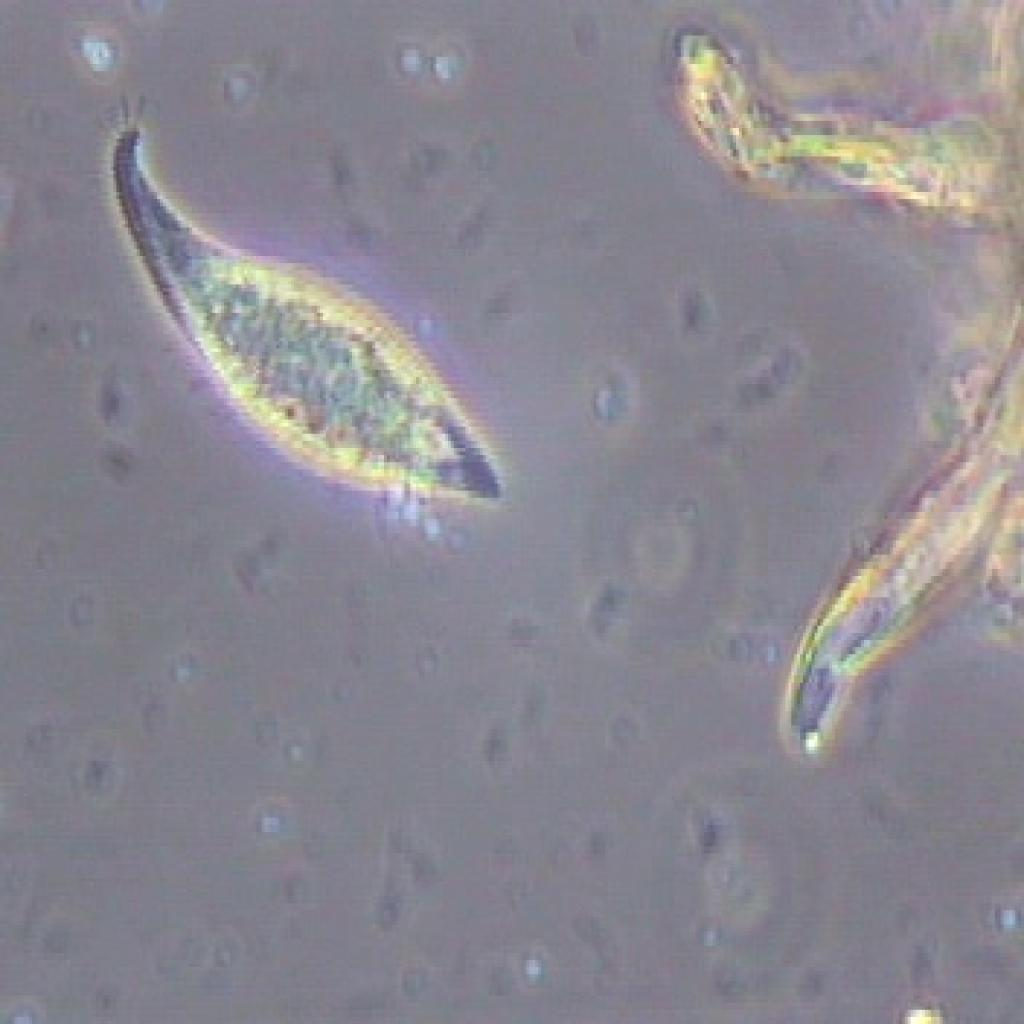Pristina: (70, 108, 521, 564)
